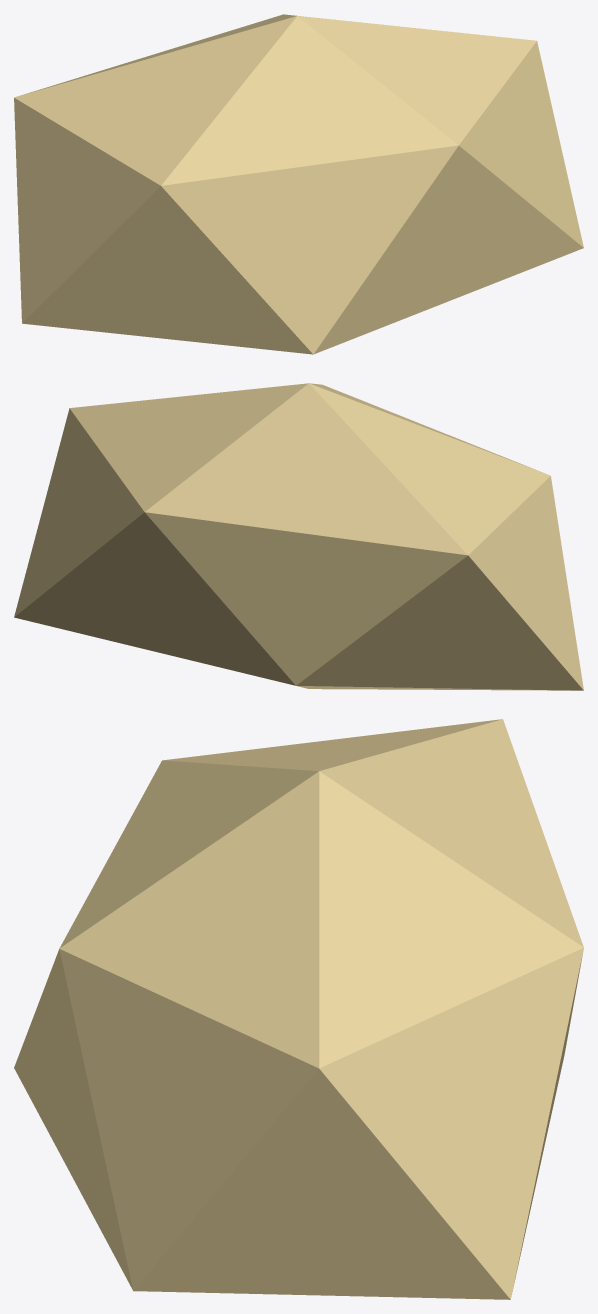
Rendered from item_089_beeswax_s.glb.
3 views of the same model, one above another, from view 1: azimuth 30°, elevation 25°; view 2: azimuth 150°, elevation 25°; view 3: azimuth 270°, elevation 25° (orthographic). The views are drawn at different scales.
Visible parts, largest first — view 1: item_089_beeswax_s; view 2: item_089_beeswax_s; view 3: item_089_beeswax_s.
Part boxes in pixels (x1,y1,x2,y2): item_089_beeswax_s: [14, 14, 583, 354]; item_089_beeswax_s: [14, 383, 583, 690]; item_089_beeswax_s: [14, 719, 583, 1299].
Size of the model in its own units: 0.3242 by 0.1842 by 0.2094.
